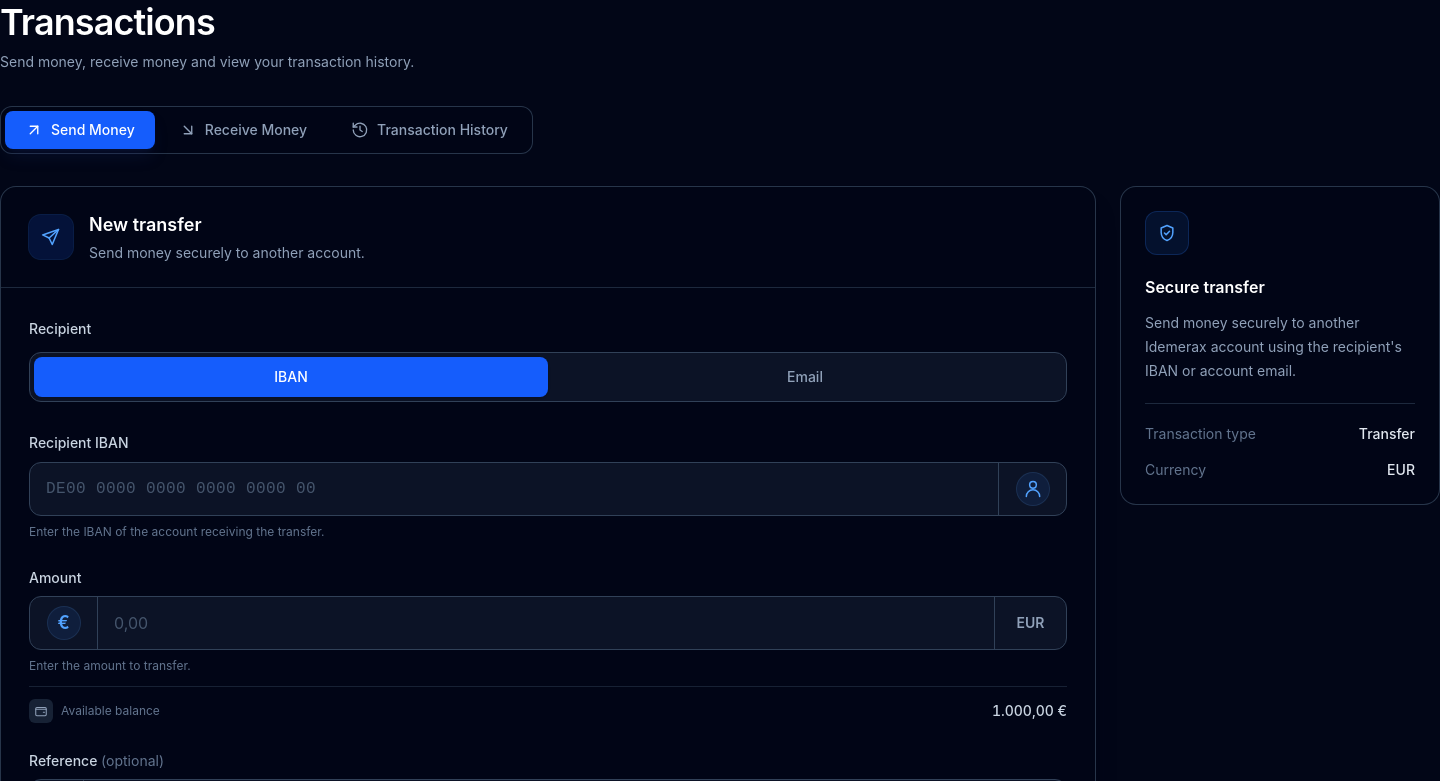
TransactionsPage › uses fallback values for invalid transaction data
Expected: the text "1.000,00 €" is shown, 992,701 -> 1067,721
In the field labelled "Recipient IBAN": (514, 489) 30,463 -> 998,515, type "DE89370400440532013000"
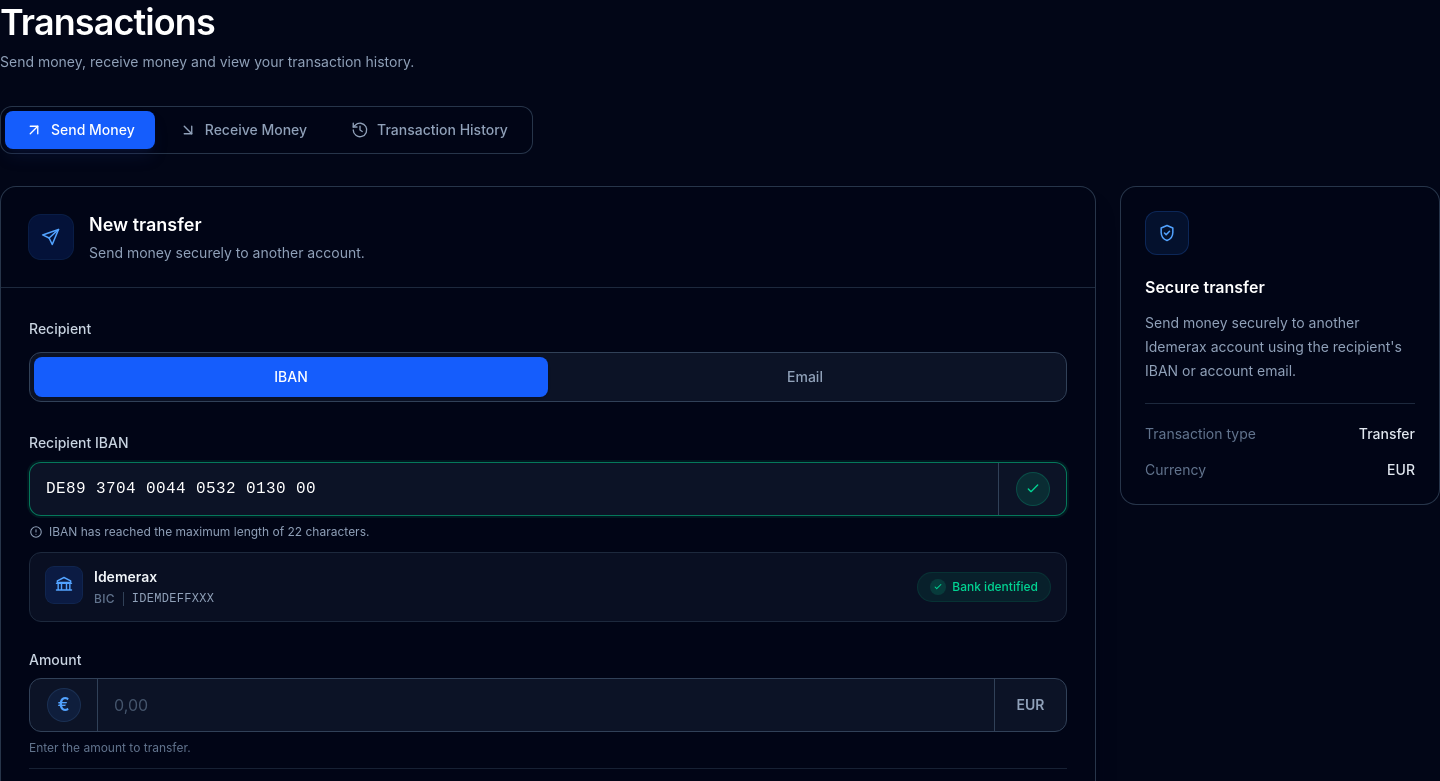
In the field labelled "Amount": (546, 705) 98,679 -> 994,731, type "250"
(page scrolled)
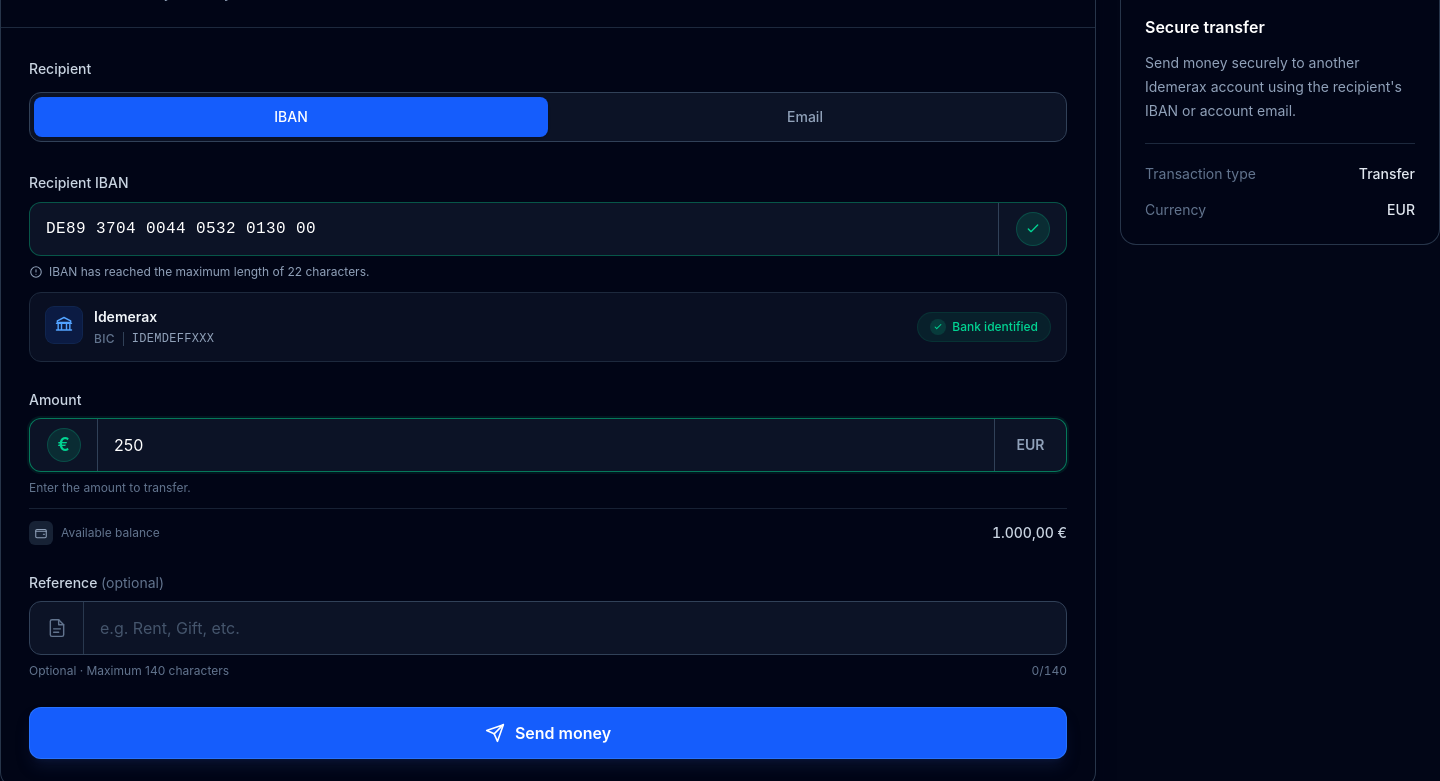
Click the button "Send money": click(548, 733) 29,707 -> 1067,759
(page scrolled)
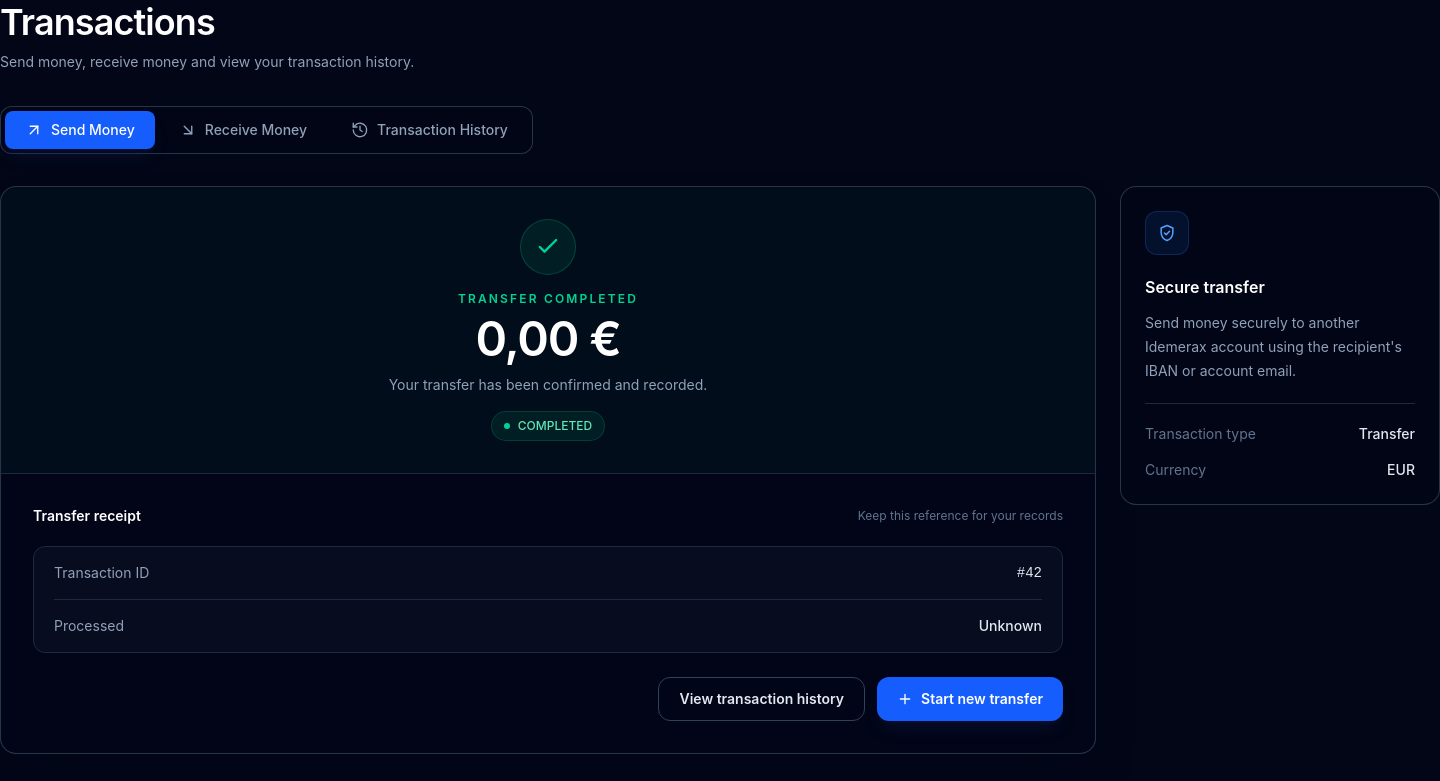
Expected: the heading "0,00 €" is shown, 475,309 -> 620,368
Result: the text "Transfer completed" is shown at 458,291 -> 638,306
Result: the text "Unknown" is shown at 979,616 -> 1042,636
